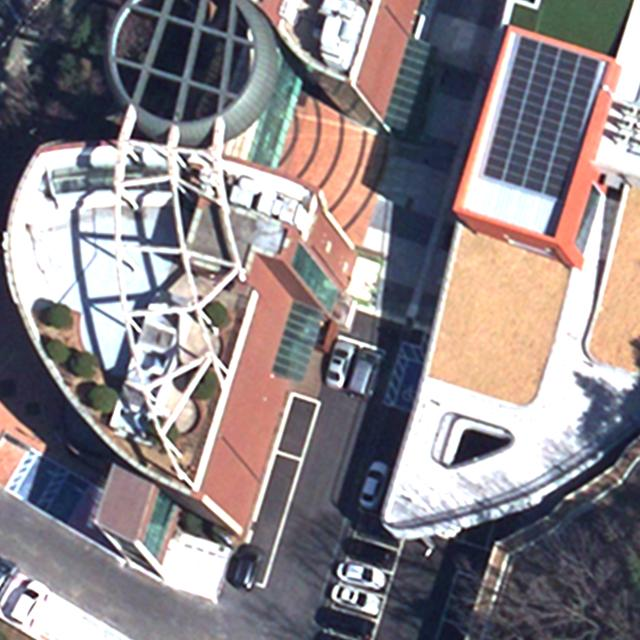panel: (480, 33, 605, 204)
